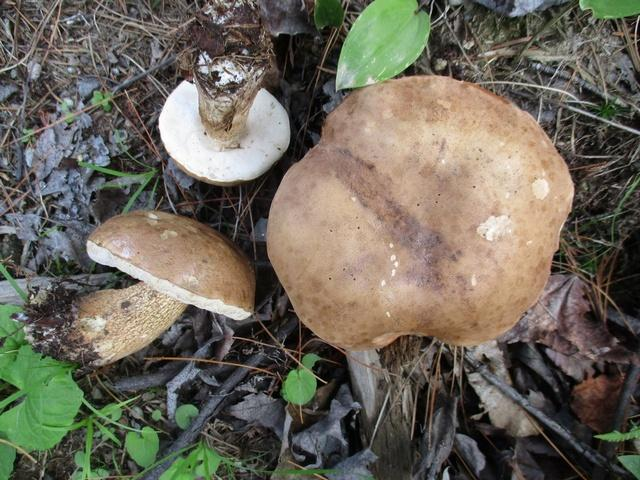poisonous_mushroom: (254, 58, 548, 356), (22, 208, 256, 372), (155, 19, 294, 185)
